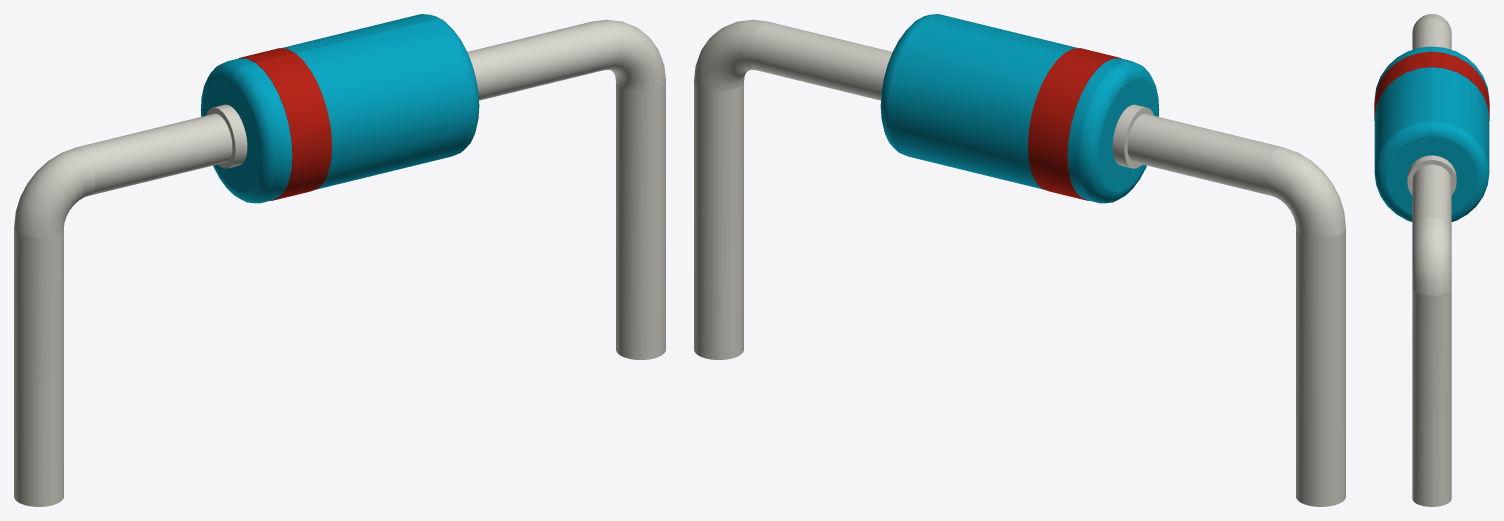
File: kc-d_do-34_sod68_p7.62mm_horizontal.glb
3 renders of one model, left to right at view 1: azimuth 30°, elevation 25°; view 2: azimuth 150°, elevation 25°; view 3: azimuth 270°, elevation 25°, orthographic. The views are drawn at different scales.
Visible parts, largest first — view 1: 0.6666666666666666_0.6666666666666666_0.5833333333333334_0.8, 0_0.3333333333333333_0.5_0, 0.4166666666666667_0_0_0; view 2: 0.6666666666666666_0.6666666666666666_0.5833333333333334_0.8, 0_0.3333333333333333_0.5_0, 0.4166666666666667_0_0_0; view 3: 0.6666666666666666_0.6666666666666666_0.5833333333333334_0.8, 0_0.3333333333333333_0.5_0, 0.4166666666666667_0_0_0.
Boxes of the visible parts, x1,y1,x2,y2 form: 0.6666666666666666_0.6666666666666666_0.5833333333333334_0.8: [14, 19, 665, 506]; 0_0.3333333333333333_0.5_0: [200, 14, 479, 203]; 0.4166666666666667_0_0_0: [238, 48, 331, 200]; 0.6666666666666666_0.6666666666666666_0.5833333333333334_0.8: [694, 19, 1345, 506]; 0_0.3333333333333333_0.5_0: [880, 14, 1159, 203]; 0.4166666666666667_0_0_0: [1028, 48, 1121, 200]; 0.6666666666666666_0.6666666666666666_0.5833333333333334_0.8: [1407, 14, 1456, 506]; 0_0.3333333333333333_0.5_0: [1374, 46, 1489, 221]; 0.4166666666666667_0_0_0: [1374, 51, 1489, 120].
Size of the model in its own units: 0.817 by 0.4605 by 0.161.
